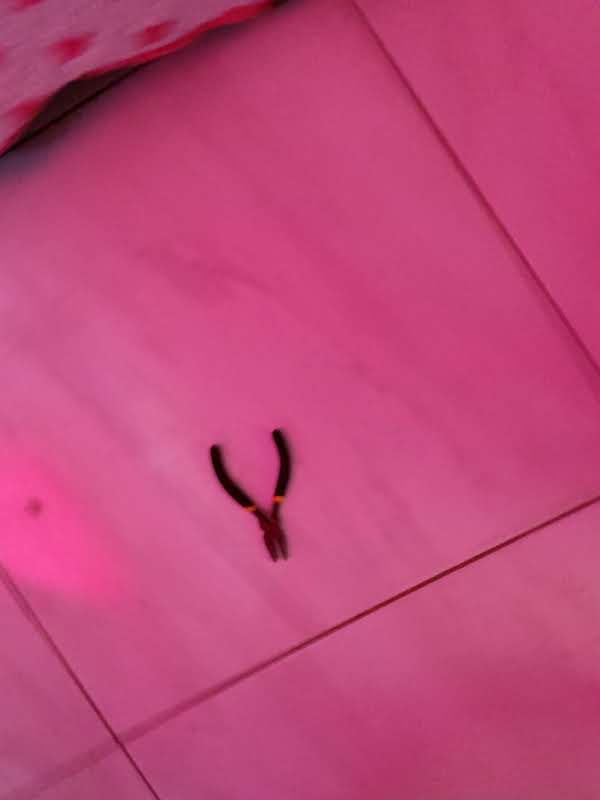Pinzas: (211, 428, 290, 560)
